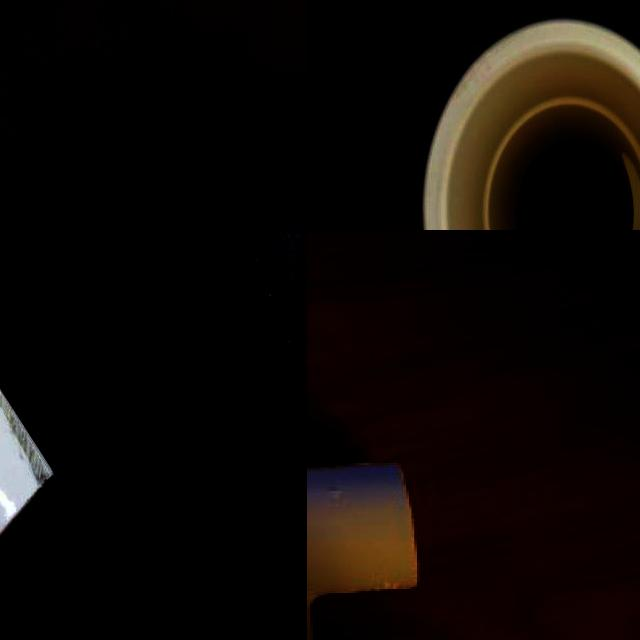Defective: (0, 383, 58, 490)
T Joint: (425, 19, 640, 230), (307, 463, 419, 640)
